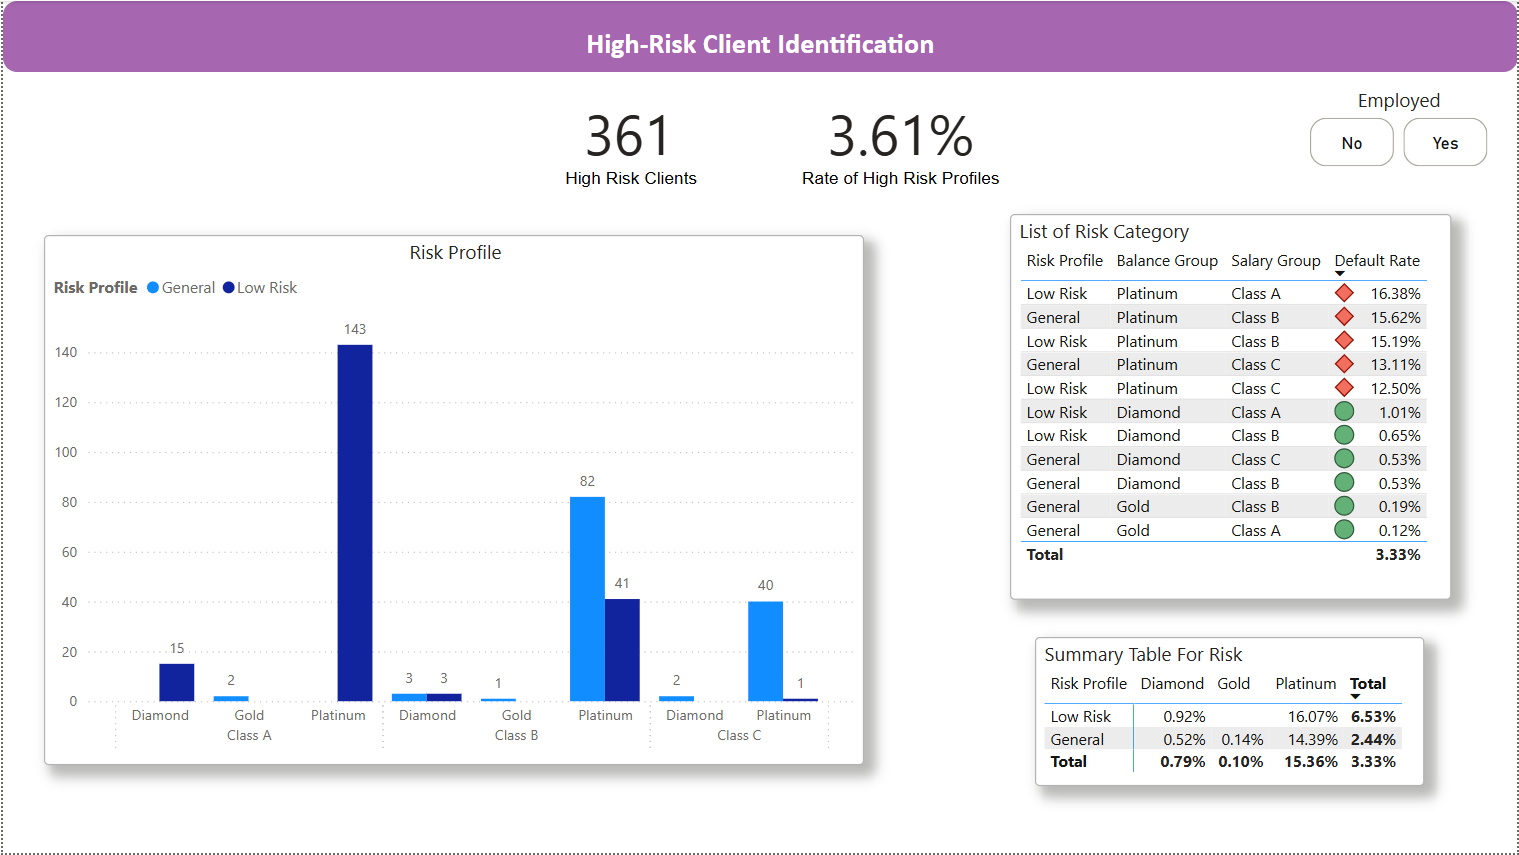

This screenshot's page, from the dashboard's own definition file:
{"tool":"powerbi","page":{"name":"High-Risk Client Identification","canvas":[1280,720],"ordinal":3},"visuals":[{"type":"textbox","box":[0,0,1280,59.7],"z":0},{"type":"advancedSlicerVisual","title":"Employed","fields":{"Values":["f_Default_Fin.Employed Status"]},"box":[1099,73.1,160.8,73.1],"z":1000},{"type":"clusteredColumnChart","title":"Risk Profile ","fields":{"Category":["f_Default_Fin.Salary Group","f_Default_Fin.Balance Group"],"Series":["f_Default_Fin.Risk Profile"],"Y":["Measures_table.m_Total Defaulters"]},"box":[34.5,197.5,693.5,447.7],"z":2000},{"type":"card","fields":{"Values":["Measures_table.m_Total High Risk Clinets"]},"box":[410.6,66.1,236.3,106.1],"z":3000},{"type":"card","fields":{"Values":["Measures_table.% of Total High Risk Clients"]},"box":[640.5,66.1,236.3,106.1],"z":4000},{"type":"tableEx","title":"List of Risk Category","fields":{"Values":["f_Default_Fin.Risk Profile","f_Default_Fin.Balance Group","f_Default_Fin.Salary Group","Measures_table.m_% of Defaulters"]},"box":[850.6,179.8,372.7,325.9],"z":5000},{"type":"pivotTable","title":"Summary Table For Risk ","fields":{"Rows":["f_Default_Fin.Risk Profile"],"Columns":["f_Default_Fin.Balance Group"],"Values":["Measures_table.% of Defaulters"]},"box":[872.3,537.9,329,125.6],"z":6000}]}

Visuals, with their boxes in screenshot pixels (x1, y1, x2, y2), scaled from the page's 1280x720 canvas onto the 1519x855 screenshot:
textbox: (x1=0, y1=0, x2=1518, y2=71)
"Employed" advancedSlicerVisual: (x1=1304, y1=87, x2=1495, y2=174)
"Risk Profile " clusteredColumnChart: (x1=41, y1=235, x2=864, y2=766)
card - Measures_table.m_Total High Risk Clinets: (x1=487, y1=78, x2=768, y2=204)
card - Measures_table.% of Total High Risk Clients: (x1=760, y1=78, x2=1041, y2=204)
"List of Risk Category" tableEx: (x1=1009, y1=214, x2=1452, y2=601)
"Summary Table For Risk " pivotTable: (x1=1035, y1=639, x2=1426, y2=788)
